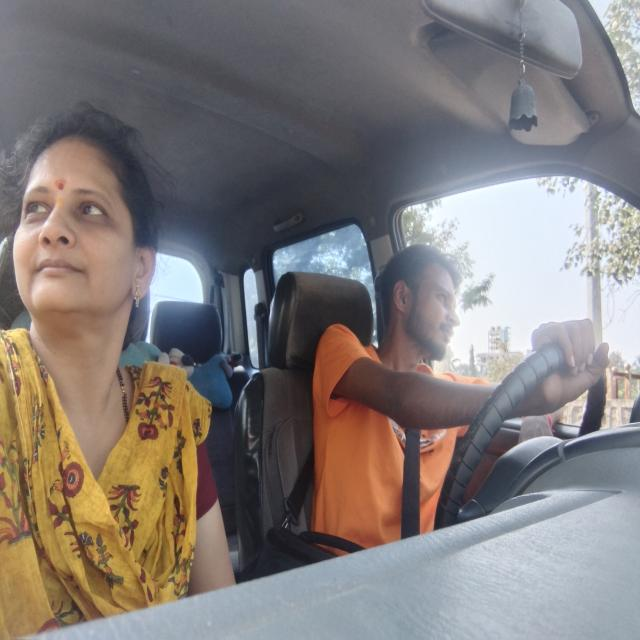LeftRight: (374, 240, 470, 370)
person: (5, 107, 164, 340)
